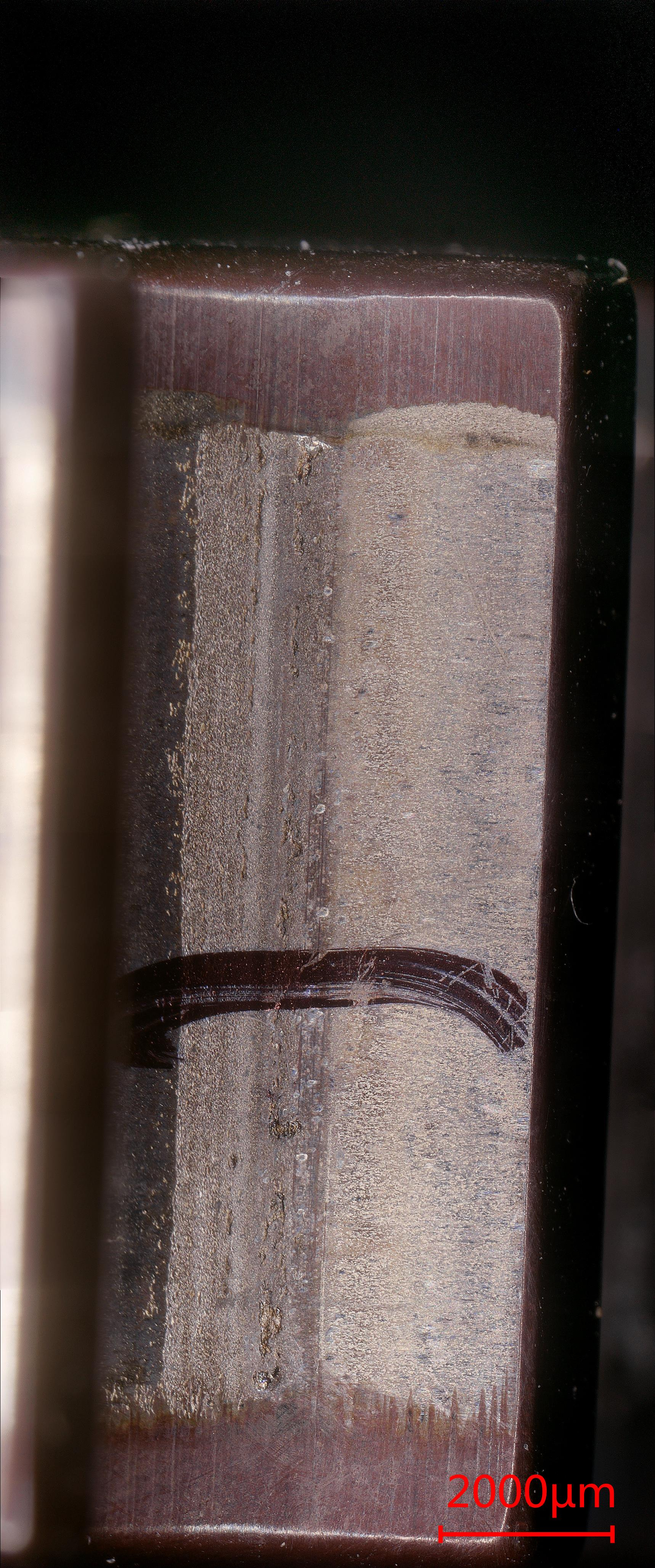Abrasion: (80, 299, 564, 1552)
